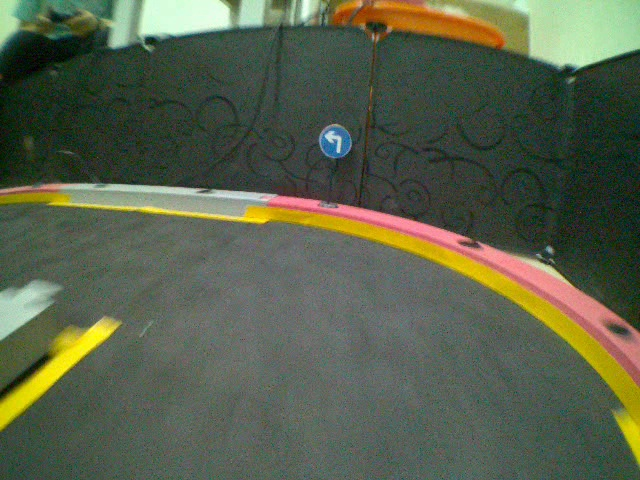turn: (319, 123, 352, 160)
